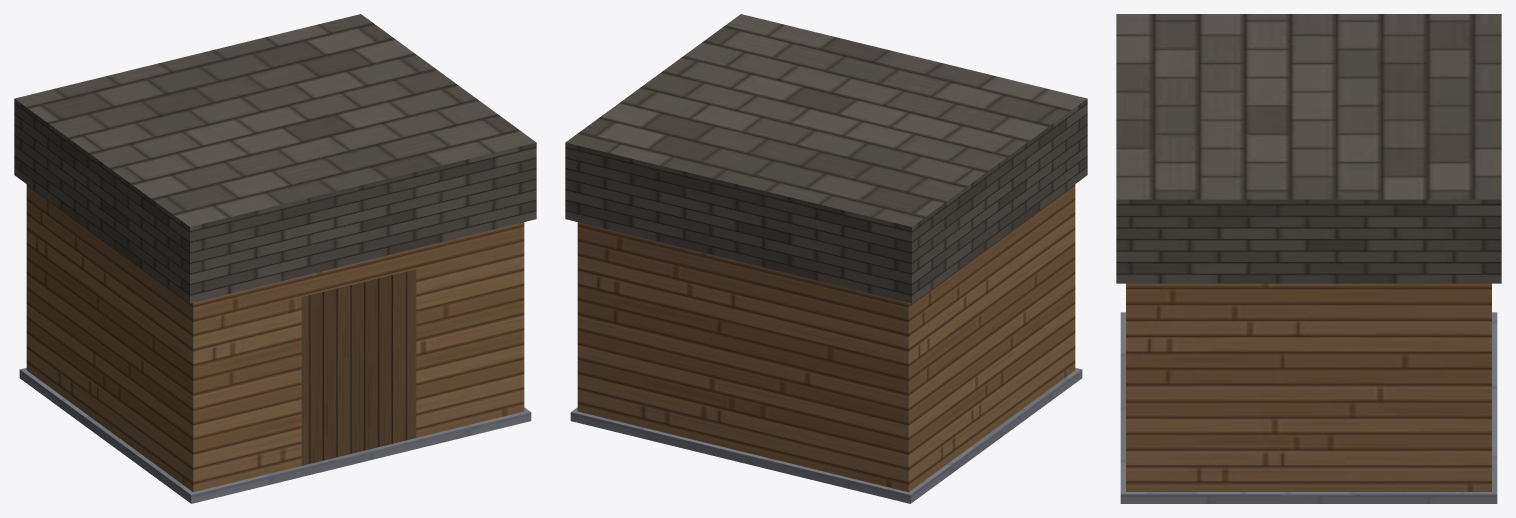
The model's file is house_booth_b_lod1.glb.
The picture shows the model from 3 angles, left to right: view 1: azimuth 30°, elevation 25°; view 2: azimuth 150°, elevation 25°; view 3: azimuth 270°, elevation 25°; orthographic projection. The views are drawn at different scales.
Visible parts, largest first — view 1: ae_snow_house_booth_b_lod1; view 2: ae_snow_house_booth_b_lod1; view 3: ae_snow_house_booth_b_lod1.
Part boxes in pixels (x1,y1,x2,y2): ae_snow_house_booth_b_lod1: [14, 14, 536, 503]; ae_snow_house_booth_b_lod1: [565, 14, 1087, 503]; ae_snow_house_booth_b_lod1: [1116, 14, 1501, 503].
Bounding box in the file's own units: 4.08 × 3.14 × 3.58.
Materials: 1 (1 with a texture image).
